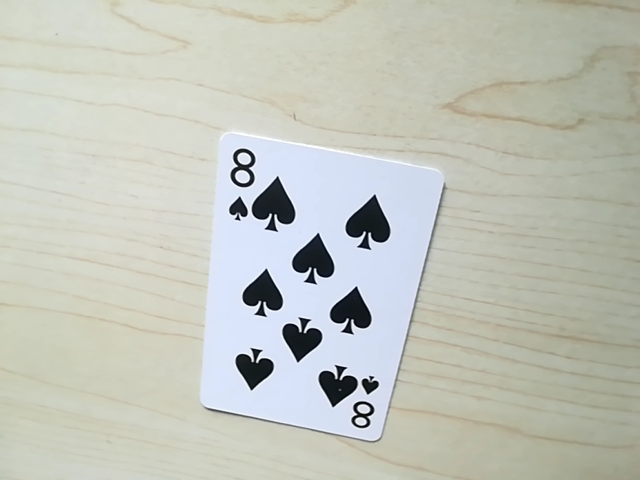ht 8: (219, 137, 267, 222), (338, 378, 385, 437)
